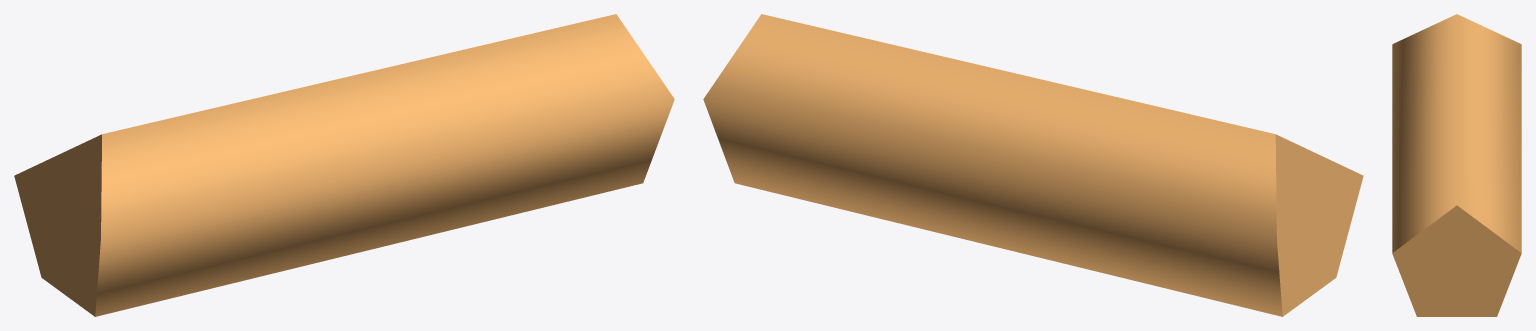
The model's file is Crayon_K.FBX.
The picture shows the model from 3 angles, left to right: view 1: azimuth 30°, elevation 25°; view 2: azimuth 150°, elevation 25°; view 3: azimuth 270°, elevation 25°; orthographic projection. The views are drawn at different scales.
Parts seen in each view (by area): view 1: Crayon_And_Chalk; view 2: Crayon_And_Chalk; view 3: Crayon_And_Chalk.
Boxes of the visible parts, x1,y1,x2,y2 form: Crayon_And_Chalk: (14, 14, 674, 316); Crayon_And_Chalk: (703, 14, 1363, 316); Crayon_And_Chalk: (1392, 14, 1521, 316).
Size of the model in its own units: 29.04 by 7.49 by 7.61.
